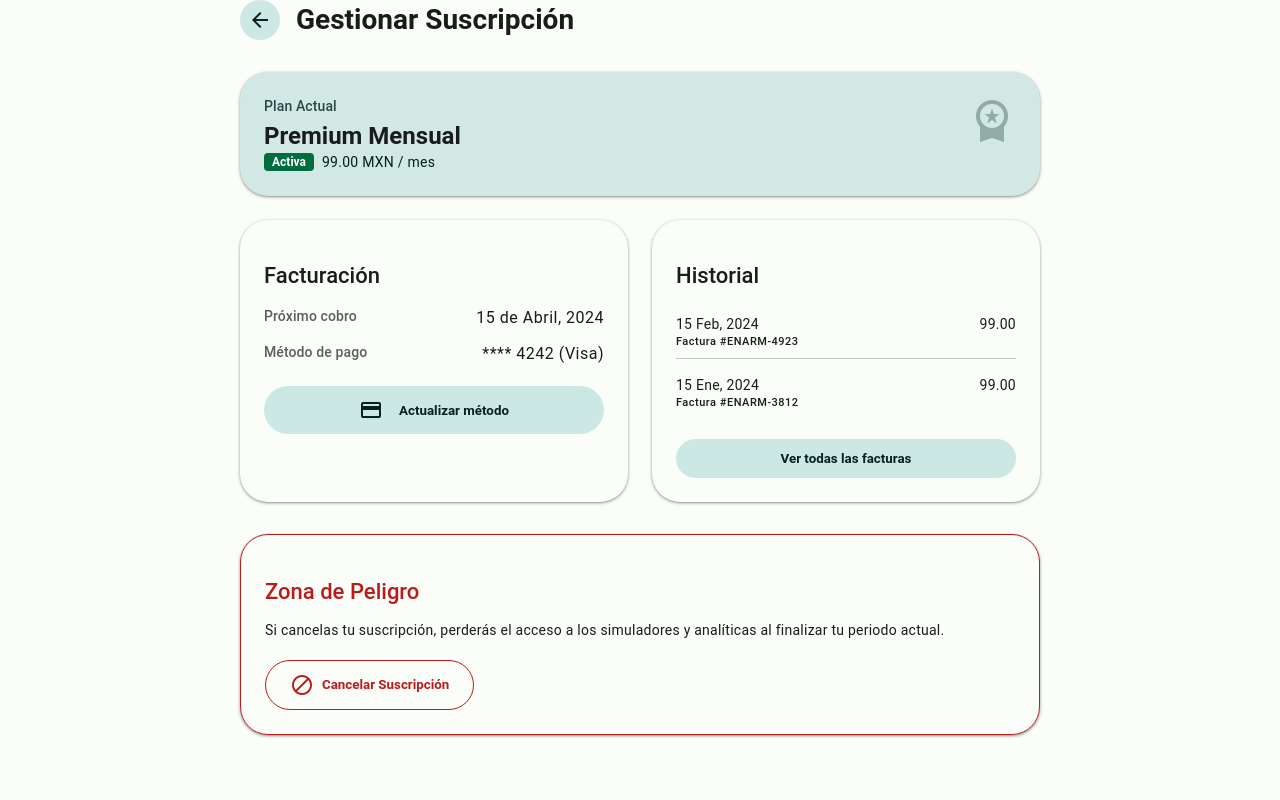
it: V2SubscriptionManagement › renders subscription information and handles cancel dialog
Expected: the heading "Premium Mensual" is shown, [264, 120, 461, 152]
Expected: the text "Activa" is shown, [264, 153, 314, 171]
Click the button "Cancelar Suscripción" at [370, 684], box [265, 660, 474, 710]
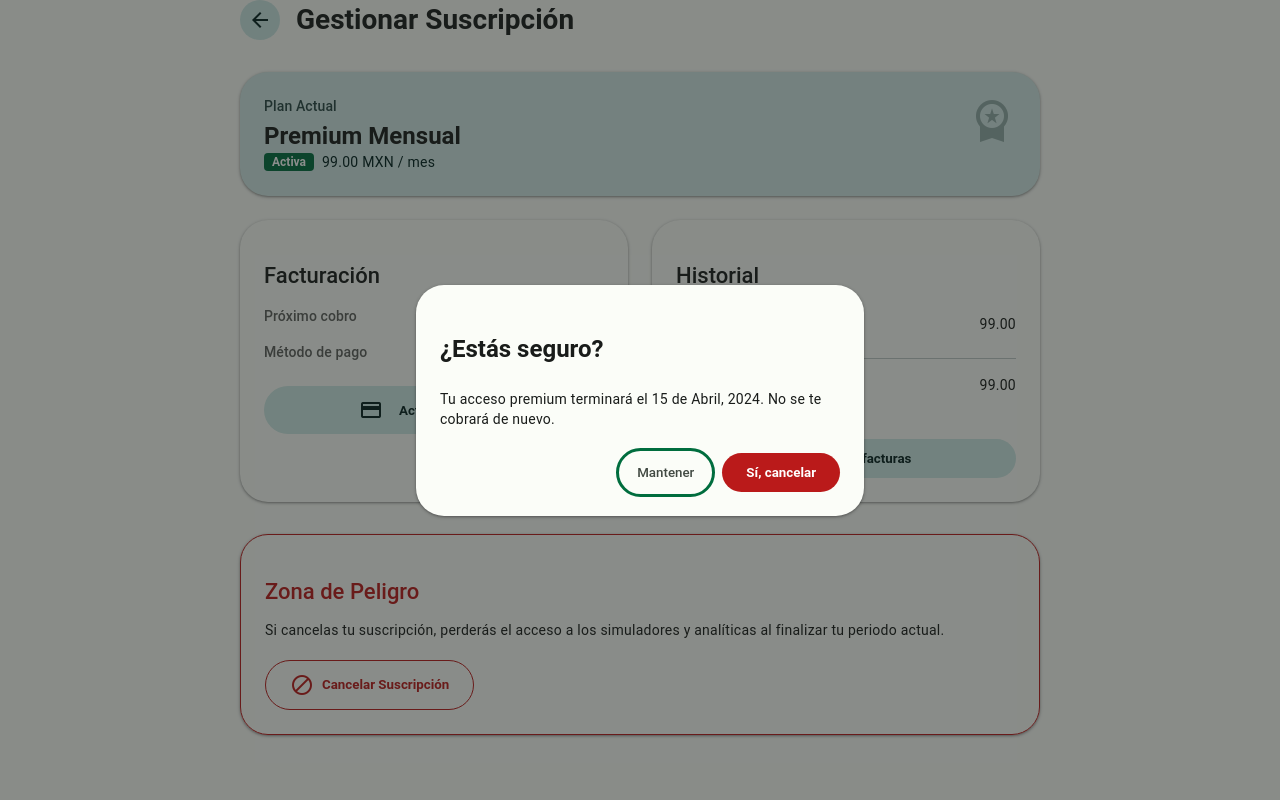
Expected: the heading "¿Estás seguro?" is shown, [440, 334, 604, 362]
Click the button "Sí, cancelar" at [781, 472], box [722, 452, 840, 492]
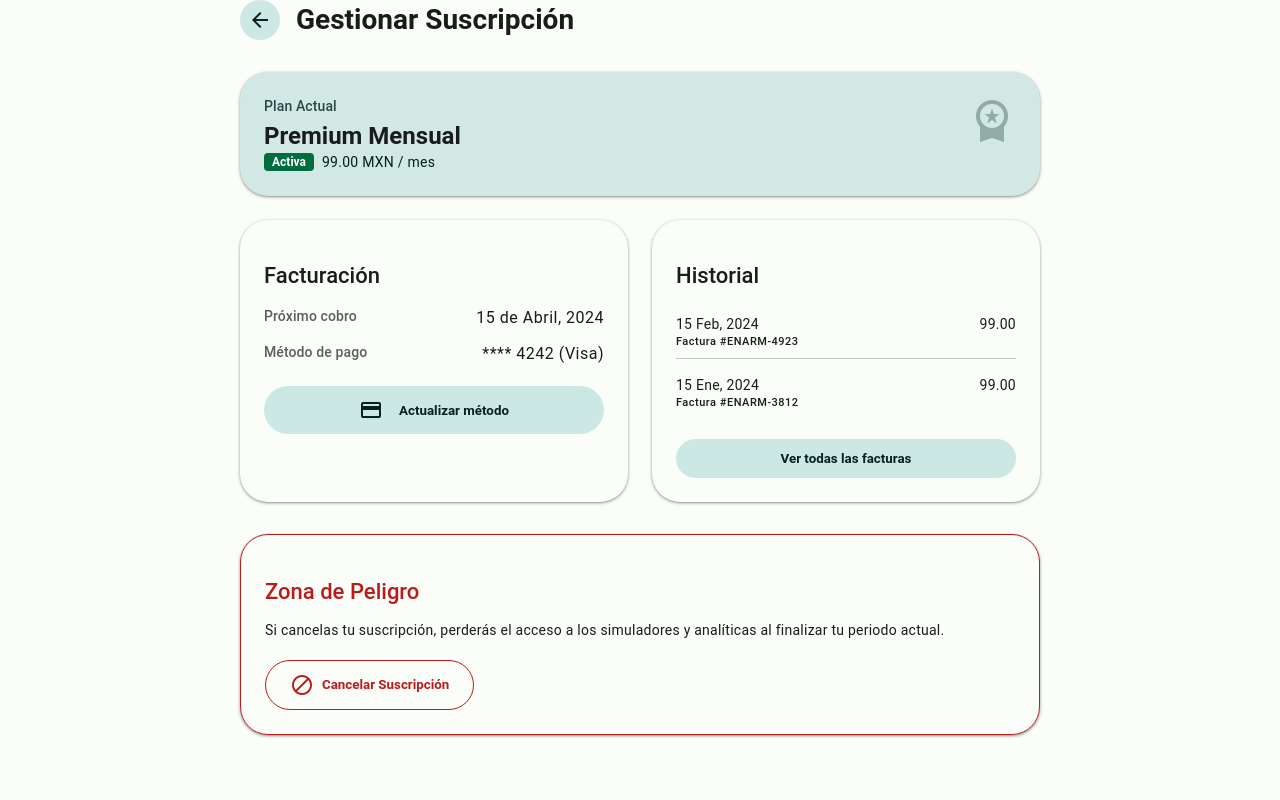
Expected: the heading "¿Estás seguro?" is gone
